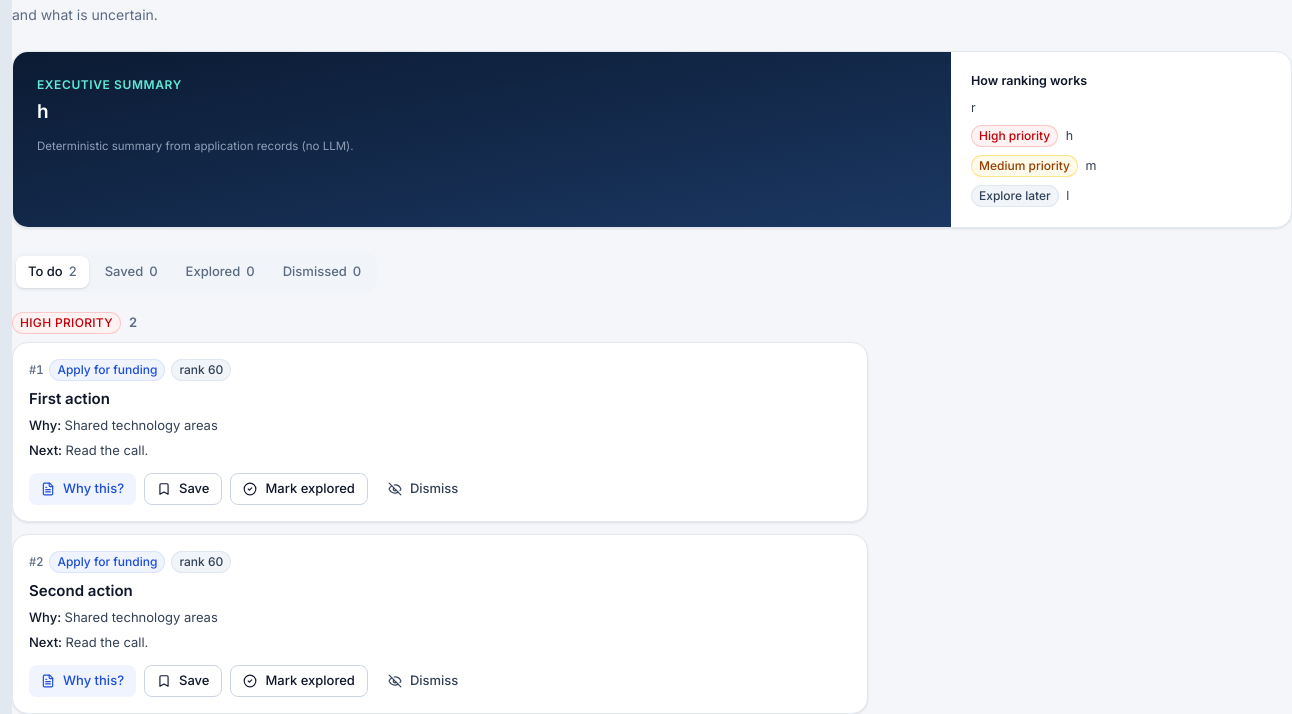
Test: recommendation action errors › Recommendation Centre: shows the error on the card whose action failed
(page scrolled)
Expected: the button "Second action" is shown, [29,581,133,601]
Click the 2nd button "Mark explored": (299, 681) [230,665,368,697]
(page scrolled)
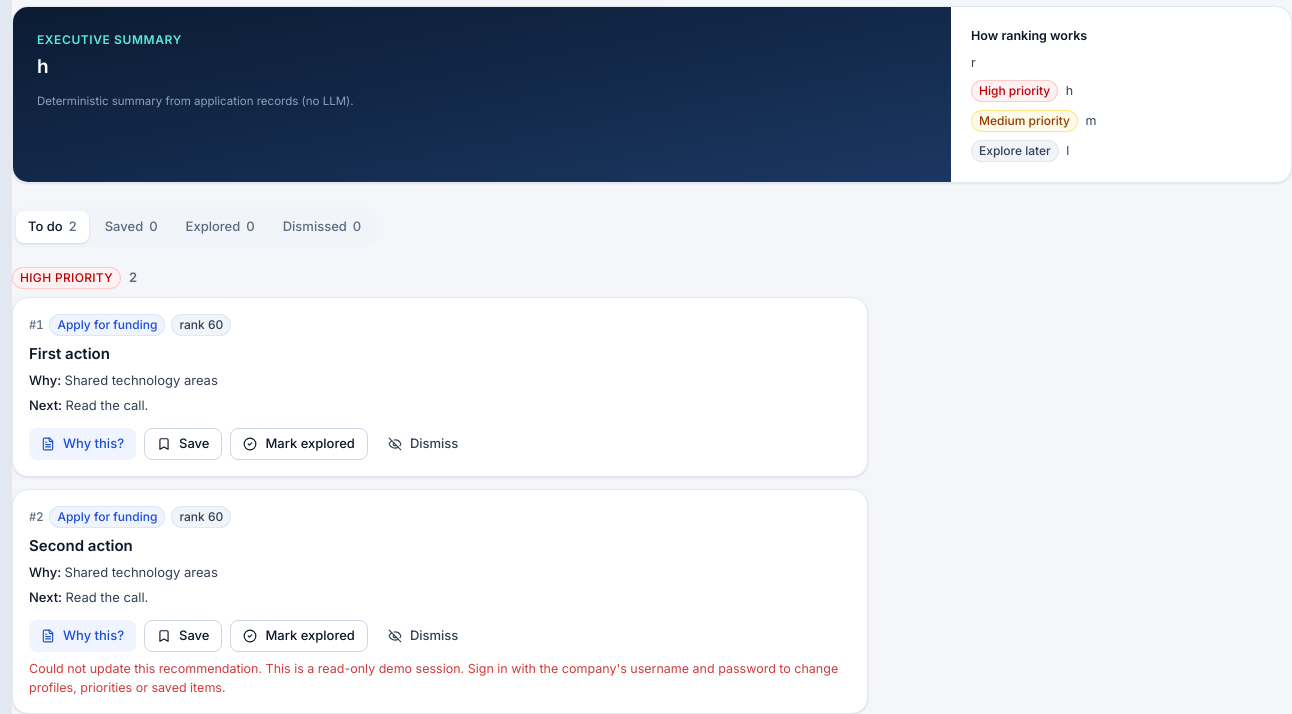
Expected: the 2nd list item shows "Second action", [29,536,133,556]
Now the message shows "Could not update this recommendation. This is a read-only demo session", box [29,660,851,697]
Now the number of messages is 1, box [29,660,851,697]
